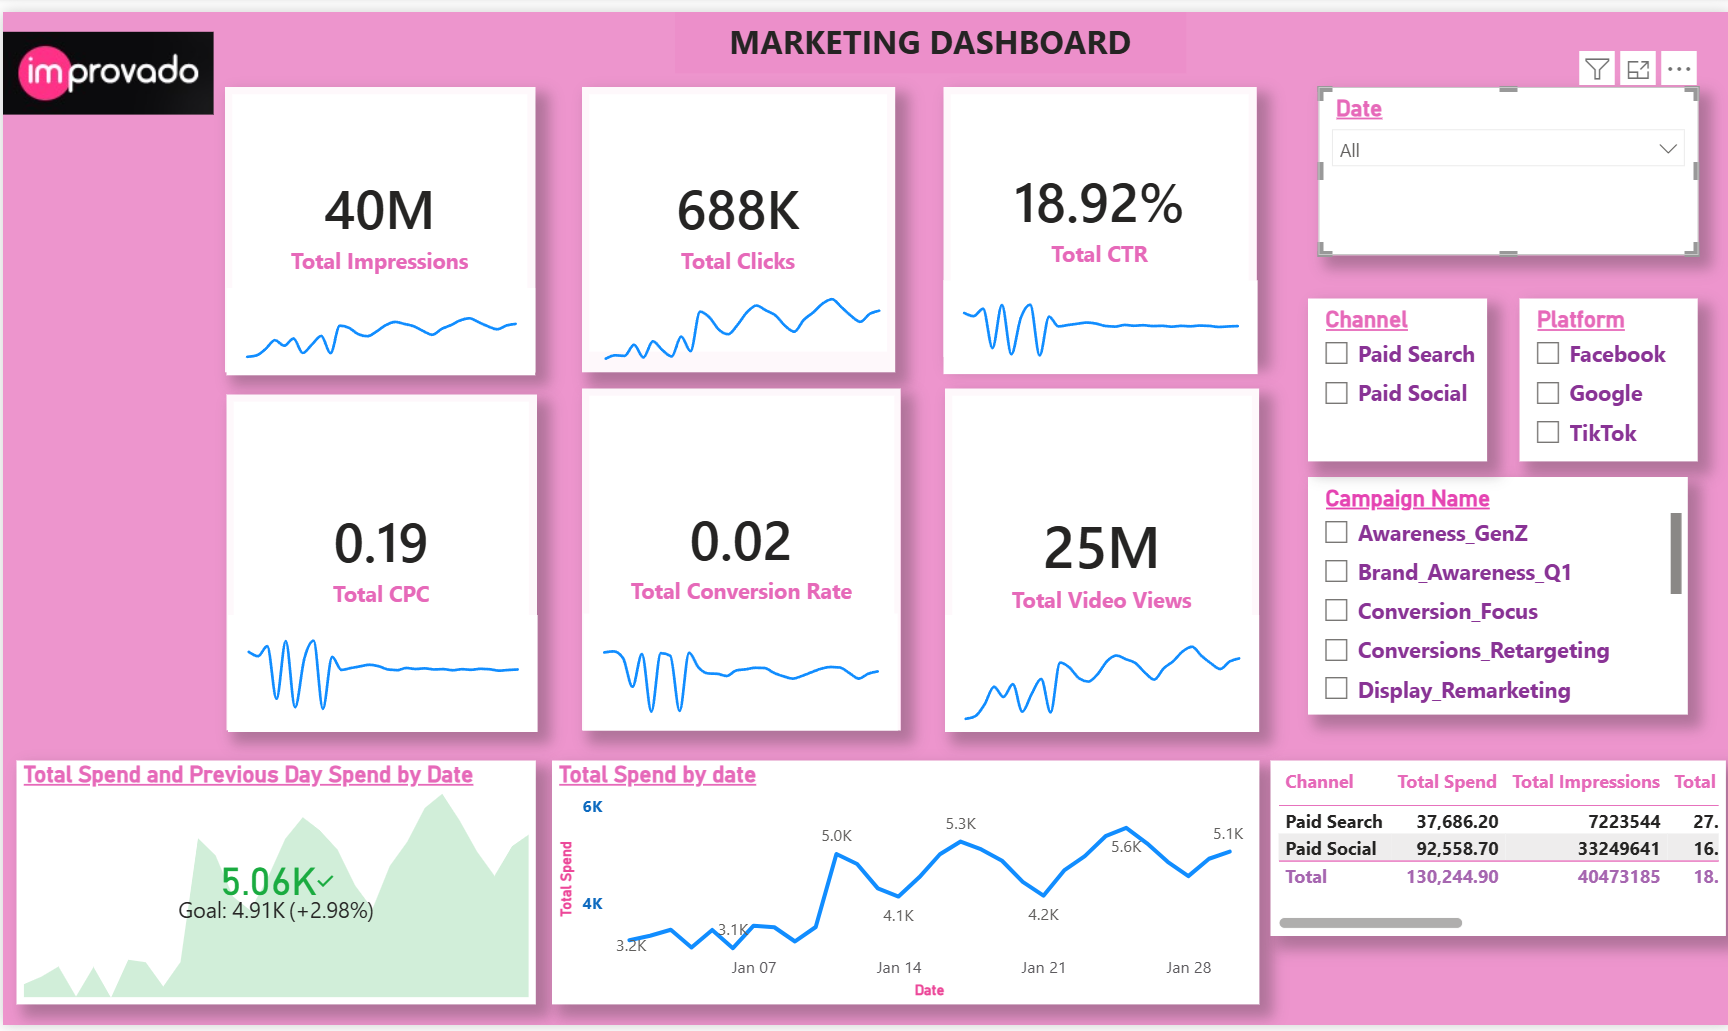

The dashboard page shown, as its layout file describes it:
{"tool":"powerbi","page":{"name":"Page 1","canvas":[1280,750],"ordinal":0},"visuals":[{"type":"cardVisual","fields":{"Data":["public unified_ads.Total Clicks"]},"box":[428.9,55.7,232,211.3],"z":0},{"type":"cardVisual","fields":{"Data":["public unified_ads.Total Video Views"]},"box":[697.8,278.7,232.6,253.9],"z":1000},{"type":"slicer","fields":{"Values":["public unified_ads.platform"]},"box":[1123.7,212.4,132,120.6],"z":2000},{"type":"slicer","fields":{"Values":["public unified_ads.campaign_name"]},"box":[967,344.3,281.4,176.3],"z":3000},{"type":"slicer","fields":{"Values":["public unified_ads.date"]},"box":[974.2,55.7,281.4,124.7],"z":4000},{"type":"kpi","title":"Total Spend and Previous Day Spend by Date","fields":{"Indicator":["public unified_ads.Total Spend"],"TrendLine":["public unified_ads.date"],"Goal":["public unified_ads.Previous Day Spend"]},"box":[10.3,554.6,384.5,180.4],"z":5000},{"type":"lineChart","fields":{"Y":["public unified_ads.Total Spend"],"Category":["public unified_ads.date"]},"box":[407.2,554.6,523.7,180.4],"z":6000},{"type":"slicer","fields":{"Values":["public unified_ads.Channel"]},"box":[967,212.4,133,120.6],"z":7000},{"type":"lineChart","fields":{"Y":["public unified_ads.Total Clicks"],"Category":["public unified_ads.date.Variation.Date Hierarchy.Year","public unified_ads.date.Variation.Date Hierarchy.Quarter","public unified_ads.date.Variation.Date Hierarchy.Month","public unified_ads.date.Variation.Date Hierarchy.Day"]},"box":[431.5,196.6,232.6,68.5],"z":8000},{"type":"lineChart","fields":{"Y":["public unified_ads.Total Video Views"],"Category":["public unified_ads.date.Variation.Date Hierarchy.Year","public unified_ads.date.Variation.Date Hierarchy.Quarter","public unified_ads.date.Variation.Date Hierarchy.Month","public unified_ads.date.Variation.Date Hierarchy.Day"]},"box":[697.8,447.2,232.6,86.5],"z":9000},{"type":"cardVisual","fields":{"Data":["public unified_ads.Total Impressions"]},"box":[164.9,55.7,229.9,211.3],"z":10000},{"type":"cardVisual","fields":{"Data":["public unified_ads.Total CTR"]},"box":[696.9,55.7,232,200],"z":11000},{"type":"cardVisual","fields":{"Data":["public unified_ads.Total Conversion Rate"]},"box":[428.9,278.4,236.1,253.6],"z":12000},{"type":"lineChart","fields":{"Y":["public unified_ads.Total Conversion Rate"],"Category":["public unified_ads.date.Variation.Date Hierarchy.Year","public unified_ads.date.Variation.Date Hierarchy.Quarter","public unified_ads.date.Variation.Date Hierarchy.Month","public unified_ads.date.Variation.Date Hierarchy.Day"]},"box":[430.3,446.1,232.6,86.5],"z":13000},{"type":"cardVisual","fields":{"Data":["public unified_ads.Total CPC"]},"box":[166,283.5,229.9,248.5],"z":14000},{"type":"lineChart","fields":{"Y":["public unified_ads.Total CPC"],"Category":["public unified_ads.date.Variation.Date Hierarchy.Year","public unified_ads.date.Variation.Date Hierarchy.Quarter","public unified_ads.date.Variation.Date Hierarchy.Month","public unified_ads.date.Variation.Date Hierarchy.Day"]},"box":[166.3,447.2,229.2,86.5],"z":15000},{"type":"lineChart","fields":{"Y":["public unified_ads.Total Impressions"],"Category":["public unified_ads.date.Variation.Date Hierarchy.Year","public unified_ads.date.Variation.Date Hierarchy.Quarter","public unified_ads.date.Variation.Date Hierarchy.Month","public unified_ads.date.Variation.Date Hierarchy.Day"]},"box":[166,204.1,228.9,64.9],"z":16000},{"type":"tableEx","fields":{"Values":["public unified_ads.Channel","public unified_ads.Total Spend","public unified_ads.Total Impressions","public unified_ads.Total CTR","public unified_ads.Total Clicks","public unified_ads.Total Conversion Rate","public unified_ads.Total Conversions","public unified_ads.Total CPC"]},"box":[939.2,554.6,337.1,129.9],"z":17000},{"type":"lineChart","fields":{"Y":["public unified_ads.Total CTR"],"Category":["public unified_ads.date.Variation.Date Hierarchy.Year","public unified_ads.date.Variation.Date Hierarchy.Quarter","public unified_ads.date.Variation.Date Hierarchy.Month","public unified_ads.date.Variation.Date Hierarchy.Day"]},"box":[696.6,198.9,232.6,69.7],"z":18000},{"type":"image","box":[0,0,155.7,90.7],"z":19000},{"type":"textbox","box":[497.9,0,378.4,45.4],"z":20000}]}

Visuals, with their boxes in screenshot pixels (x1, y1, x2, y2), scaled from the page's 1280x750 canvas onto the 1728x1031 screenshot:
cardVisual - public unified_ads.Total Clicks: bbox=[579, 77, 892, 367]
cardVisual - public unified_ads.Total Video Views: bbox=[942, 383, 1256, 732]
slicer - public unified_ads.platform: bbox=[1517, 292, 1695, 458]
slicer - public unified_ads.campaign_name: bbox=[1305, 473, 1685, 716]
slicer - public unified_ads.date: bbox=[1315, 77, 1695, 248]
"Total Spend and Previous Day Spend by Date" kpi: bbox=[14, 762, 533, 1010]
lineChart - public unified_ads.Total Spend x public unified_ads.date: bbox=[550, 762, 1257, 1010]
slicer - public unified_ads.Channel: bbox=[1305, 292, 1485, 458]
lineChart - public unified_ads.Total Clicks x public unified_ads.date.Variation.Date Hierarchy.Year: bbox=[583, 270, 897, 364]
lineChart - public unified_ads.Total Video Views x public unified_ads.date.Variation.Date Hierarchy.Year: bbox=[942, 615, 1256, 734]
cardVisual - public unified_ads.Total Impressions: bbox=[223, 77, 533, 367]
cardVisual - public unified_ads.Total CTR: bbox=[941, 77, 1254, 352]
cardVisual - public unified_ads.Total Conversion Rate: bbox=[579, 383, 898, 731]
lineChart - public unified_ads.Total Conversion Rate x public unified_ads.date.Variation.Date Hierarchy.Year: bbox=[581, 613, 895, 732]
cardVisual - public unified_ads.Total CPC: bbox=[224, 390, 534, 731]
lineChart - public unified_ads.Total CPC x public unified_ads.date.Variation.Date Hierarchy.Year: bbox=[225, 615, 534, 734]
lineChart - public unified_ads.Total Impressions x public unified_ads.date.Variation.Date Hierarchy.Year: bbox=[224, 281, 533, 370]
tableEx - public unified_ads.Channel x public unified_ads.Total Spend: bbox=[1268, 762, 1723, 941]
lineChart - public unified_ads.Total CTR x public unified_ads.date.Variation.Date Hierarchy.Year: bbox=[940, 273, 1254, 369]
image: bbox=[0, 0, 210, 125]
textbox: bbox=[672, 0, 1183, 62]
